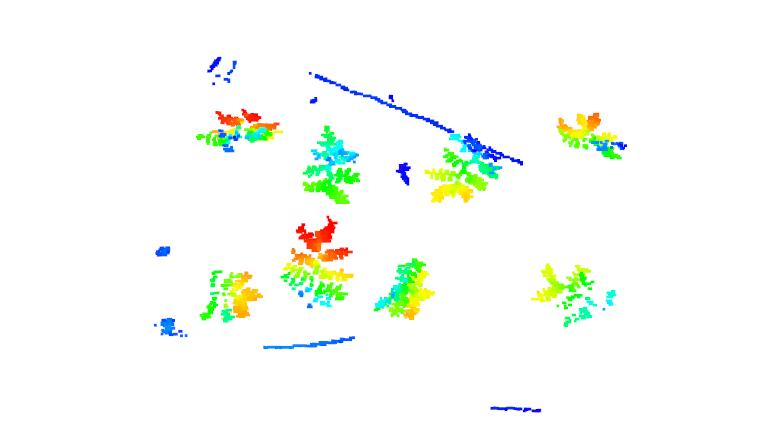chickpea: (282, 215, 353, 311), (531, 261, 619, 327), (421, 133, 504, 202), (298, 125, 361, 207), (195, 107, 285, 154), (553, 110, 630, 163), (371, 258, 435, 321), (197, 267, 263, 323)
